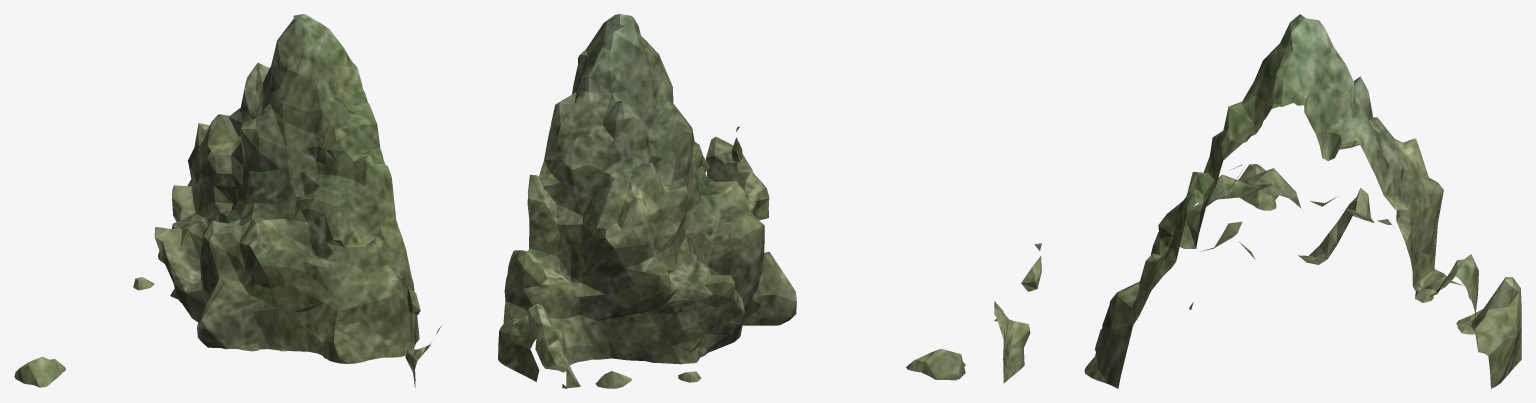
The picture shows the model from 3 angles, left to right: view 1: azimuth 30°, elevation 25°; view 2: azimuth 150°, elevation 25°; view 3: azimuth 270°, elevation 25°; orthographic projection. The views are drawn at different scales.
Bounding box in the file's own units: 5.51 × 4.28 × 5.9.
2 materials, 2 textured.
